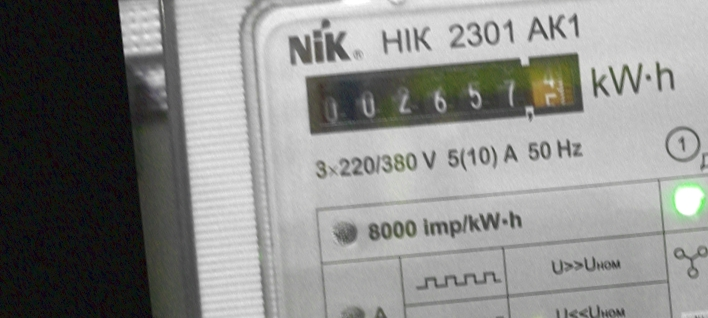0: (322, 94, 342, 124), (360, 88, 379, 119)
2: (396, 85, 415, 115)
4: (541, 62, 559, 89)
5: (467, 79, 486, 111), (544, 91, 561, 107)
6: (432, 84, 450, 115)
7: (503, 76, 521, 109)
screen: (296, 35, 598, 153)
